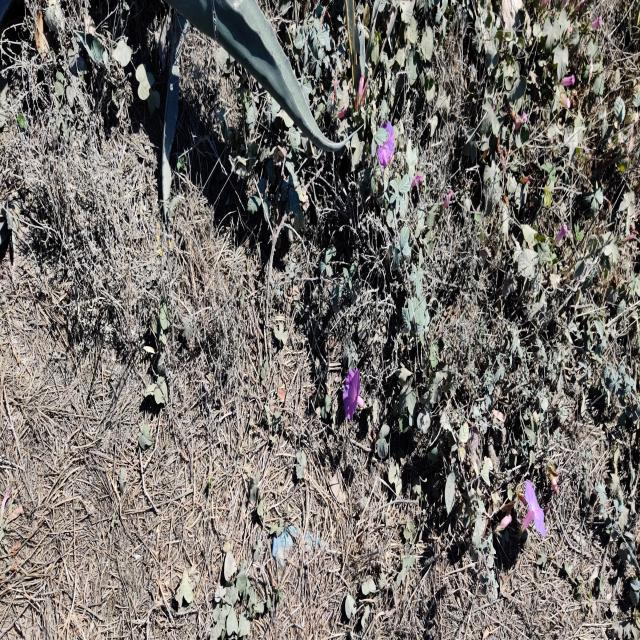litter: (270, 522, 335, 579)
